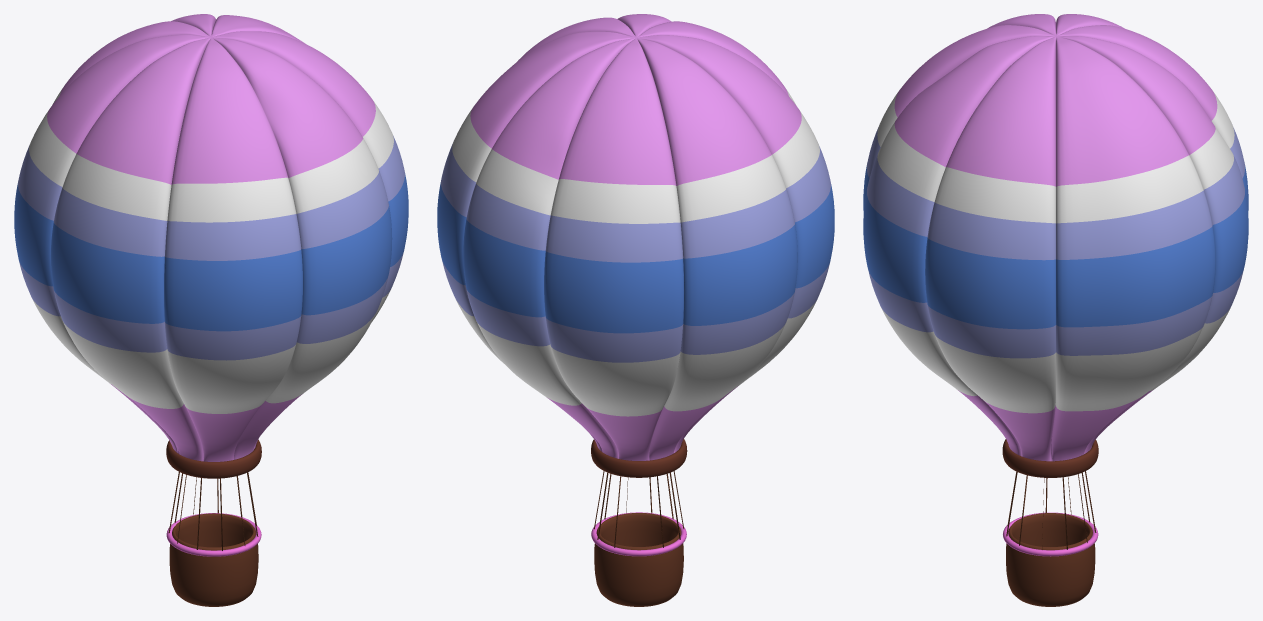
Rendered from HotAirBallonFinal.fbx.
3 views of the same model, side by side, from view 1: azimuth 30°, elevation 25°; view 2: azimuth 150°, elevation 25°; view 3: azimuth 270°, elevation 25° (orthographic).
Visible parts, largest first — view 1: Sphere, Circle, Circle.001, Cycloid, BezierCircle; view 2: Sphere, Circle, Circle.001, Cycloid, BezierCircle; view 3: Sphere, Circle, Circle.001, BezierCircle, Cycloid.
Boxes of the visible parts, bbox=[...] form: Sphere: bbox=[14, 14, 408, 461]; Circle: bbox=[169, 513, 258, 606]; Circle.001: bbox=[166, 440, 261, 478]; Cycloid: bbox=[168, 472, 258, 550]; BezierCircle: bbox=[166, 513, 261, 556]; Sphere: bbox=[437, 14, 834, 460]; Circle: bbox=[594, 513, 683, 606]; Circle.001: bbox=[591, 439, 687, 477]; Cycloid: bbox=[594, 471, 684, 547]; BezierCircle: bbox=[591, 512, 686, 556]; Sphere: bbox=[863, 14, 1248, 461]; Circle: bbox=[1006, 513, 1095, 606]; Circle.001: bbox=[1002, 439, 1098, 477]; BezierCircle: bbox=[1003, 512, 1098, 556]; Cycloid: bbox=[1006, 471, 1096, 549].
Bounding box in the file's own units: 621 × 992 × 621.
